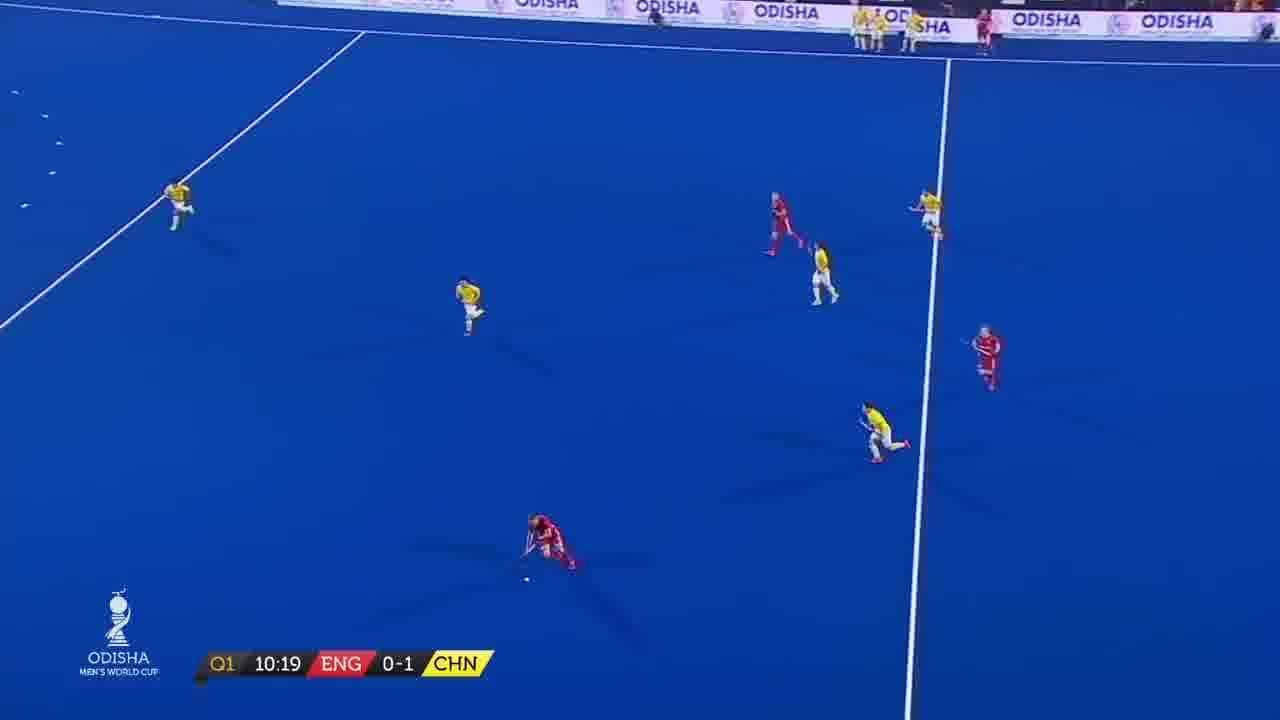ball: (520, 574, 536, 584)
